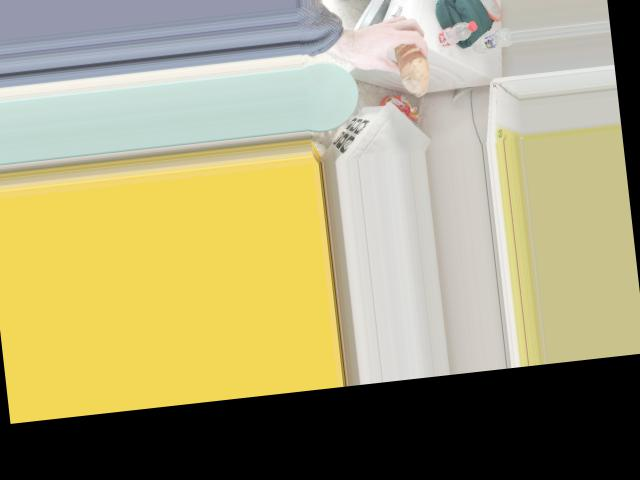sweet_potato: (377, 28, 424, 84)
